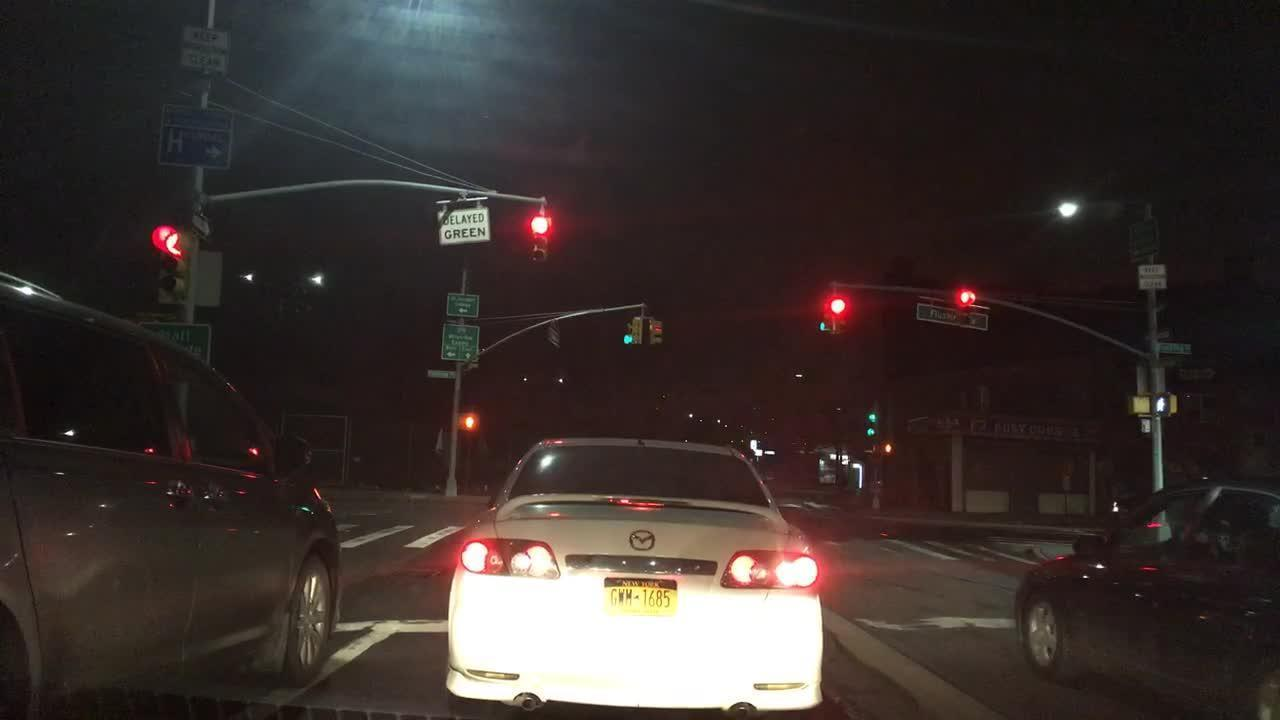Mazda: (622, 524, 662, 556)
